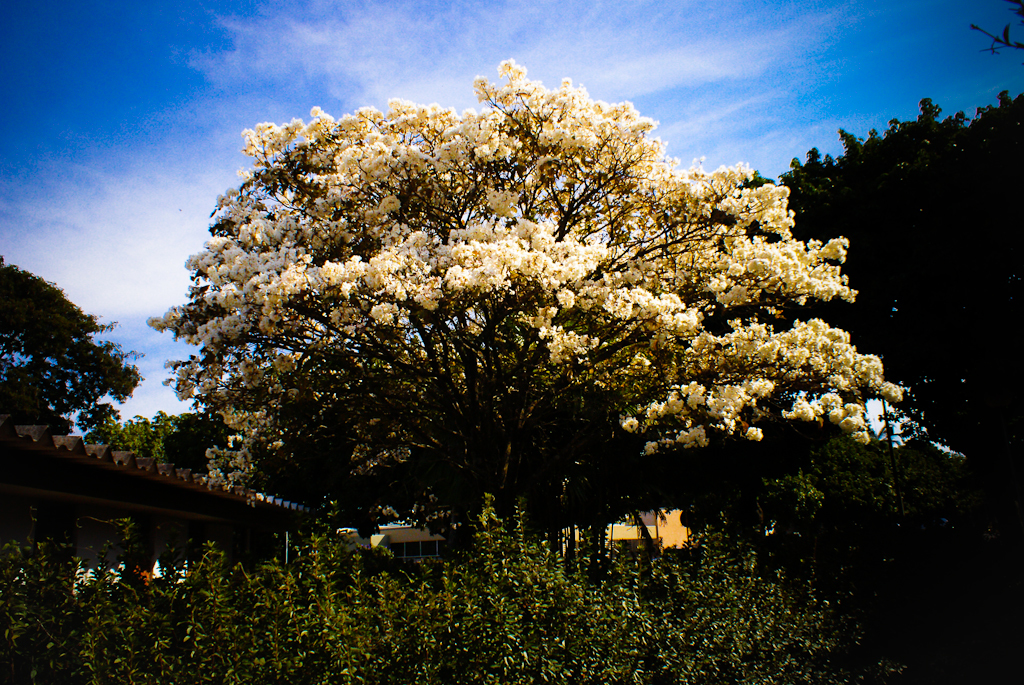Tree: (147, 40, 942, 579), (0, 256, 144, 435)
